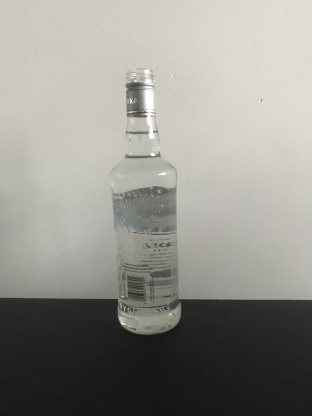nakretka: (123, 69, 158, 118)
